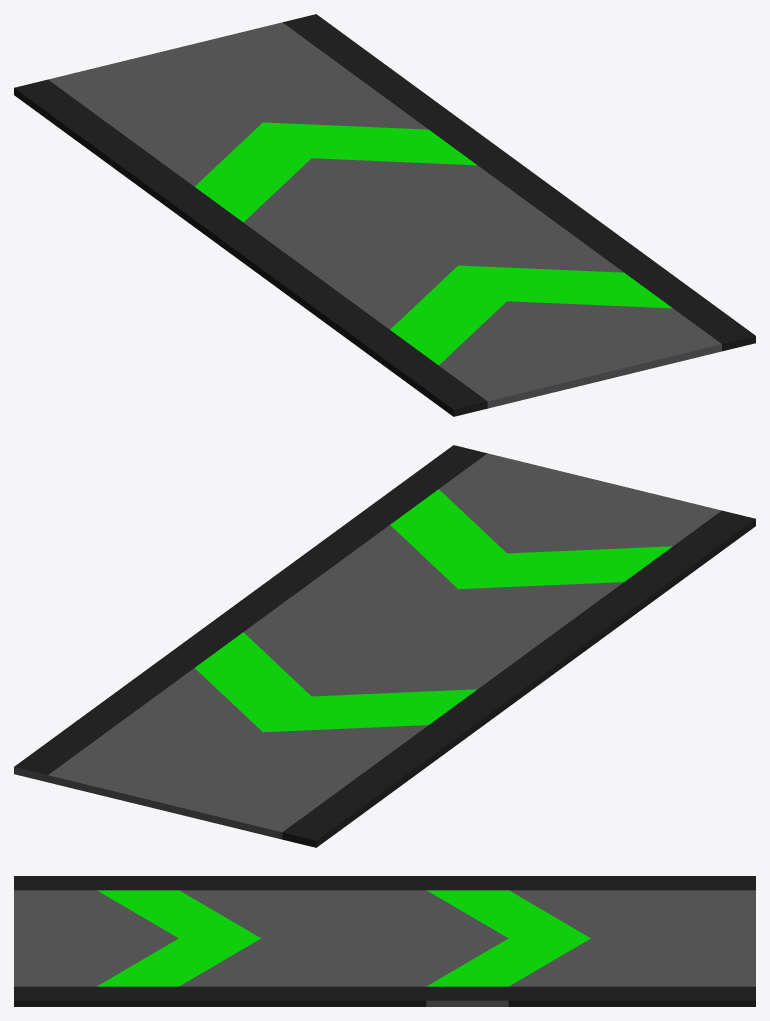
Rendered from green_road (1).fbx.
The picture shows the model from 3 angles, top to bottom: view 1: azimuth 30°, elevation 25°; view 2: azimuth 150°, elevation 25°; view 3: azimuth 270°, elevation 25°; orthographic projection. The views are drawn at different scales.
Parts seen in each view (by area): view 1: Cube; view 2: Cube; view 3: Cube.
Part boxes in pixels (box(x1,y1,x2,y2)): Cube: box(14, 14, 755, 416); Cube: box(14, 445, 755, 847); Cube: box(14, 876, 755, 1006).
Bounding box in the file's own units: 396 × 9.14 × 998.
